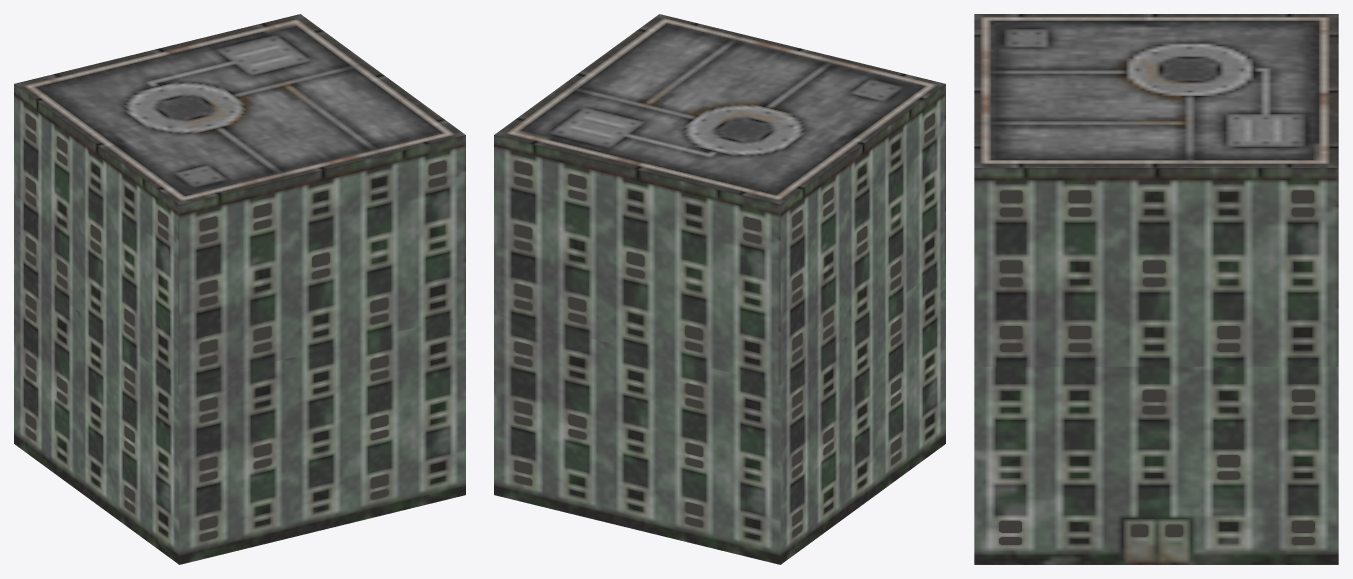
File: city6storyb.glb
The picture shows the model from 3 angles, left to right: view 1: azimuth 30°, elevation 25°; view 2: azimuth 150°, elevation 25°; view 3: azimuth 270°, elevation 25°; orthographic projection. The views are drawn at different scales.
Parts seen in each view (by area): view 1: CityBlock8Story_A01, LitWin_City6Story; view 2: CityBlock8Story_A01, LitWin_City6Story; view 3: CityBlock8Story_A01, LitWin_City6Story.
Part boxes in pixels (left/top/right/bottom): CityBlock8Story_A01: left=14, top=14, right=465, bottom=564; LitWin_City6Story: left=25, top=113, right=446, bottom=541; CityBlock8Story_A01: left=494, top=14, right=945, bottom=564; LitWin_City6Story: left=514, top=113, right=934, bottom=537; CityBlock8Story_A01: left=974, top=14, right=1338, bottom=564; LitWin_City6Story: left=999, top=190, right=1314, bottom=544.
Bounding box in the file's own units: 17.76 × 21.34 × 17.76.
1 material, 1 textured.
